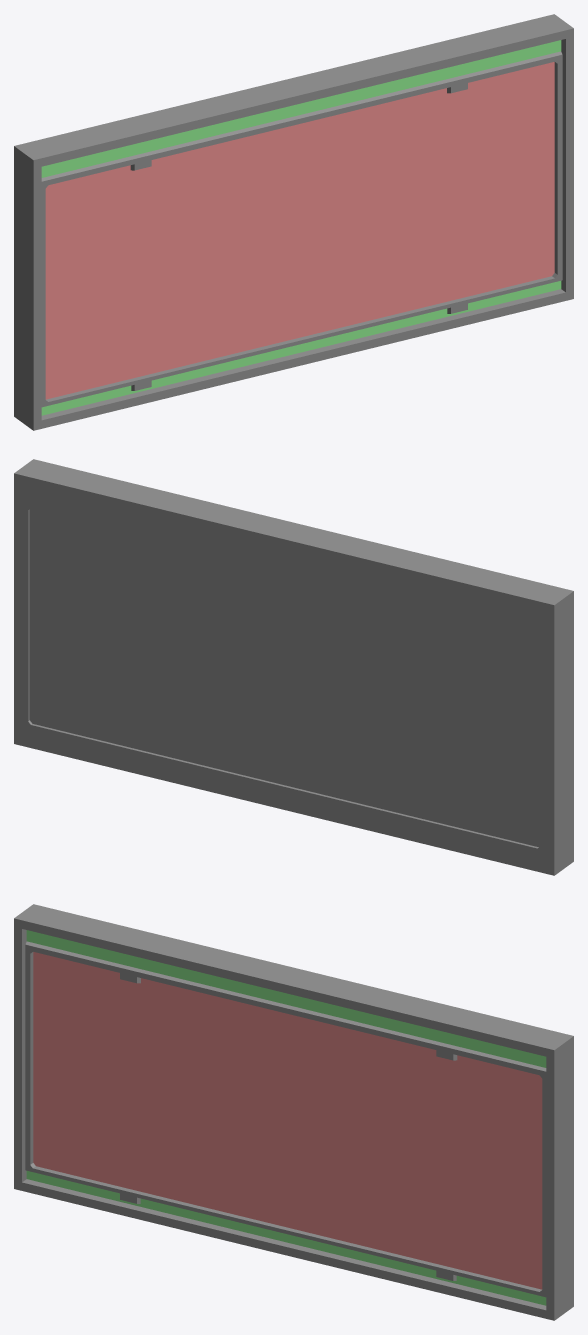
Rendered from S_Envi_Laboratory_window_001.gltf.
The picture shows the model from 3 angles, top to bottom: view 1: azimuth 30°, elevation 25°; view 2: azimuth 150°, elevation 25°; view 3: azimuth 330°, elevation 25°; orthographic projection.
Visible parts, largest first — view 1: S_Envi_Laboratory_window_001; view 2: S_Envi_Laboratory_window_001; view 3: S_Envi_Laboratory_window_001.
Boxes of the visible parts, x1,y1,x2,y2 form: S_Envi_Laboratory_window_001: (14,14,573,430); S_Envi_Laboratory_window_001: (14,459,573,875); S_Envi_Laboratory_window_001: (14,904,573,1320).
Size of the model in its own units: 8 by 3.83 by 0.5.
